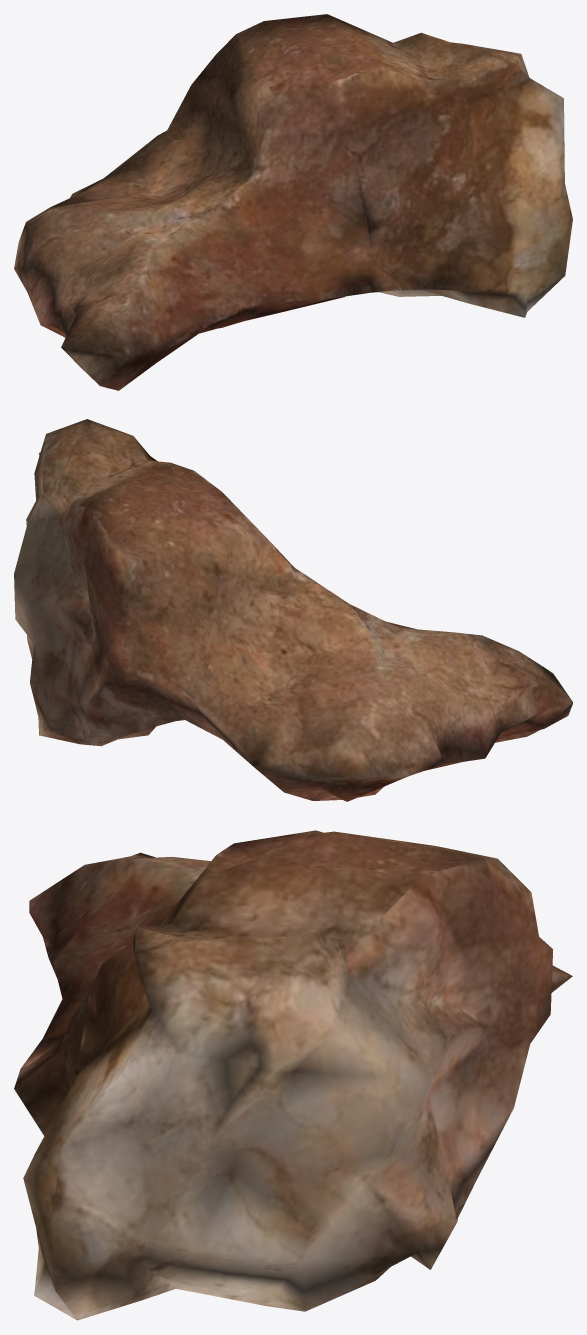
File: stone_01.glb
3 renders of one model, top to bottom at view 1: azimuth 30°, elevation 25°; view 2: azimuth 150°, elevation 25°; view 3: azimuth 270°, elevation 25°, orthographic. The views are drawn at different scales.
Parts seen in each view (by area): view 1: stone_01; view 2: stone_01; view 3: stone_01.
Part boxes in pixels (x1=…): stone_01: x1=14, y1=14, x2=572, y2=390; stone_01: x1=14, y1=419, x2=572, y2=801; stone_01: x1=14, y1=830, x2=572, y2=1320.
Bounding box in the file's own units: 0.146 × 0.0704 × 0.0886.
1 material, 1 textured.
